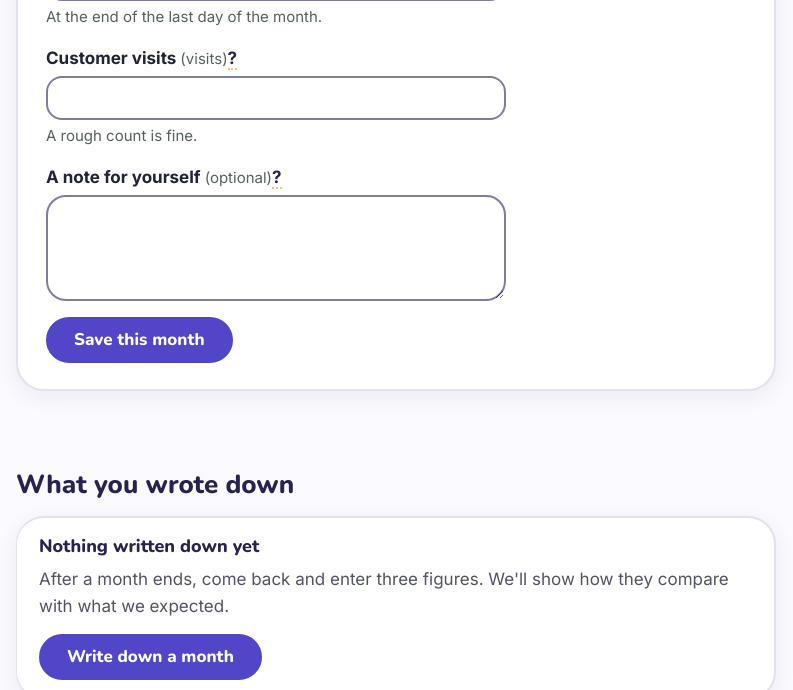
writing a month down › does not save, and names what is missing, when a box is empty (never filling in a 0)
The image size is (793, 690).
(page scrolled)
Click the button "Save this month": (139, 340) [46, 317, 233, 363]
(page scrolled)
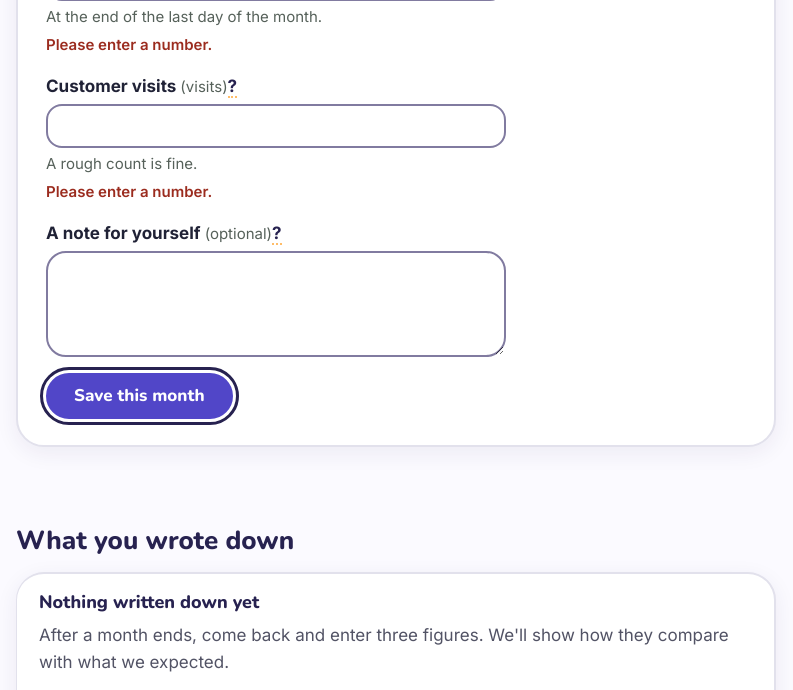
Expected: the text "Please enter a number." is shown 3 times
